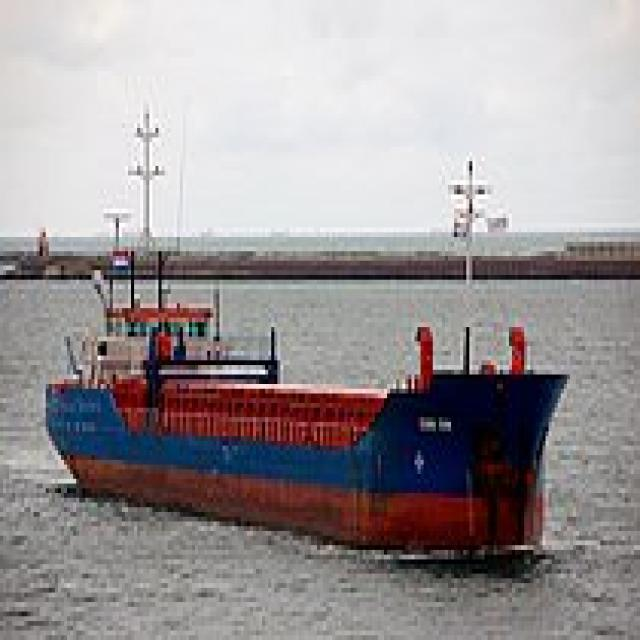Cargo: (40, 90, 570, 555)
